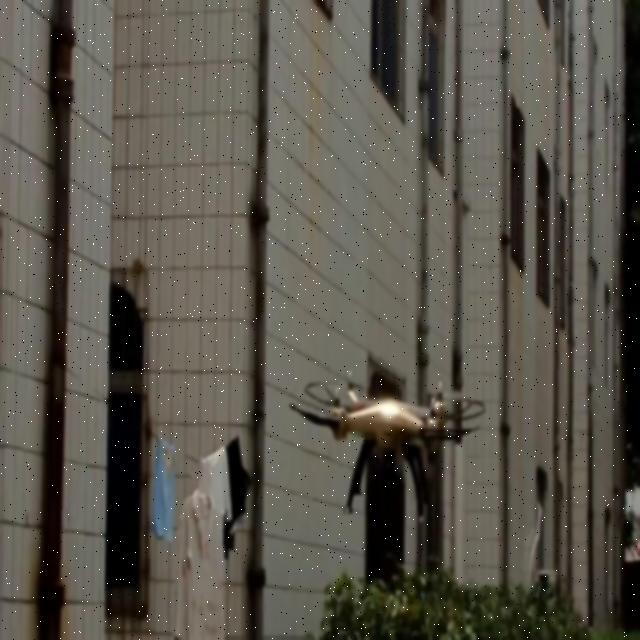UAV: (295, 376, 485, 516)
